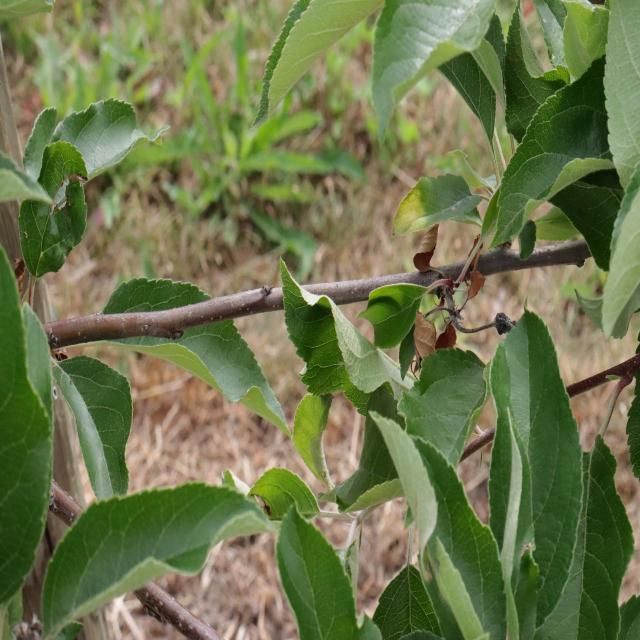-FireBlight-: (414, 231, 459, 349)
